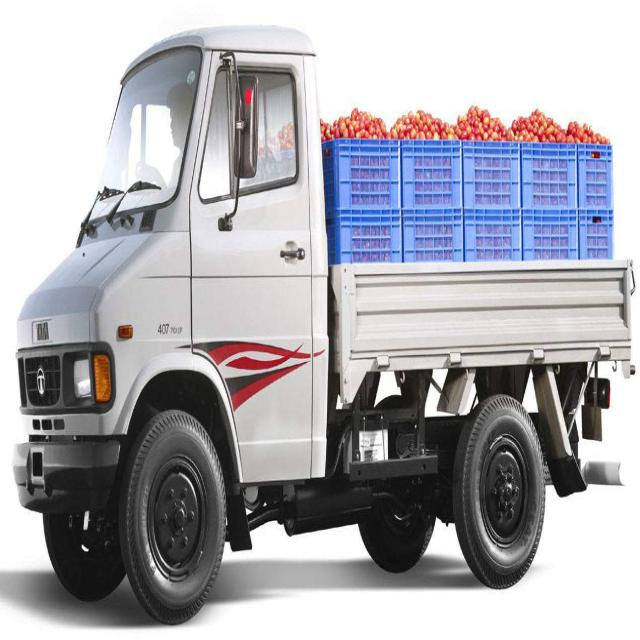truck: (12, 29, 632, 624)
